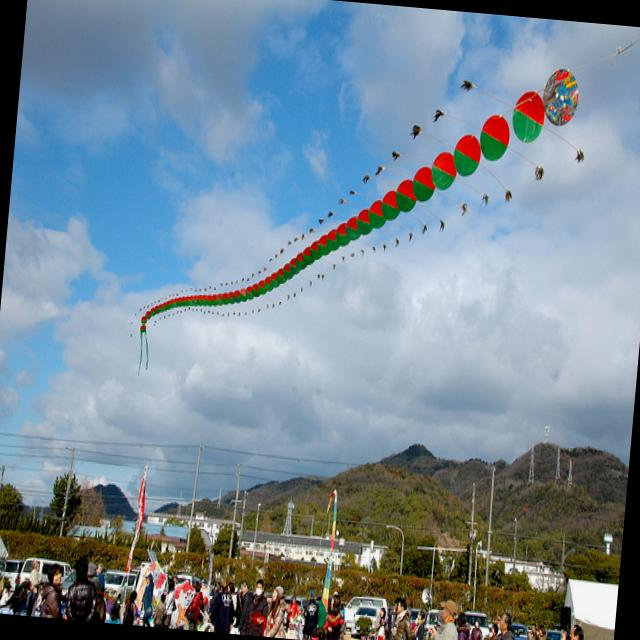Vehicle: (20, 558, 80, 606), (342, 594, 391, 638), (103, 570, 136, 605), (462, 609, 491, 640), (425, 608, 443, 633), (0, 571, 19, 592), (509, 622, 528, 640), (541, 627, 561, 640), (175, 572, 193, 585)
